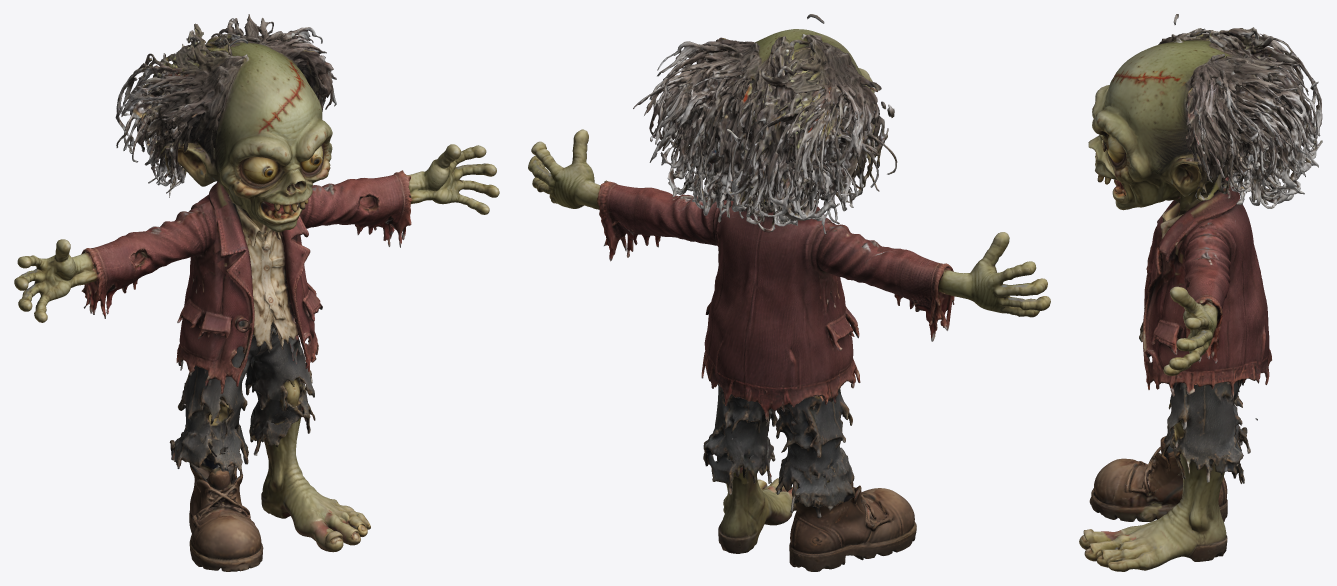
The model's file is varco-source.glb.
The picture shows the model from 3 angles, left to right: view 1: azimuth 30°, elevation 25°; view 2: azimuth 150°, elevation 25°; view 3: azimuth 270°, elevation 25°; orthographic projection. The views are drawn at different scales.
Parts seen in each view (by area): view 1: texture_mapping; view 2: texture_mapping; view 3: texture_mapping.
Part boxes in pixels (x1,y1,x2,y2): texture_mapping: (14,14,499,571); texture_mapping: (528,14,1050,571); texture_mapping: (1079,14,1322,571).
Bounding box in the file's own units: 1 × 0.9921 × 0.4292.
1 material, 1 textured.
